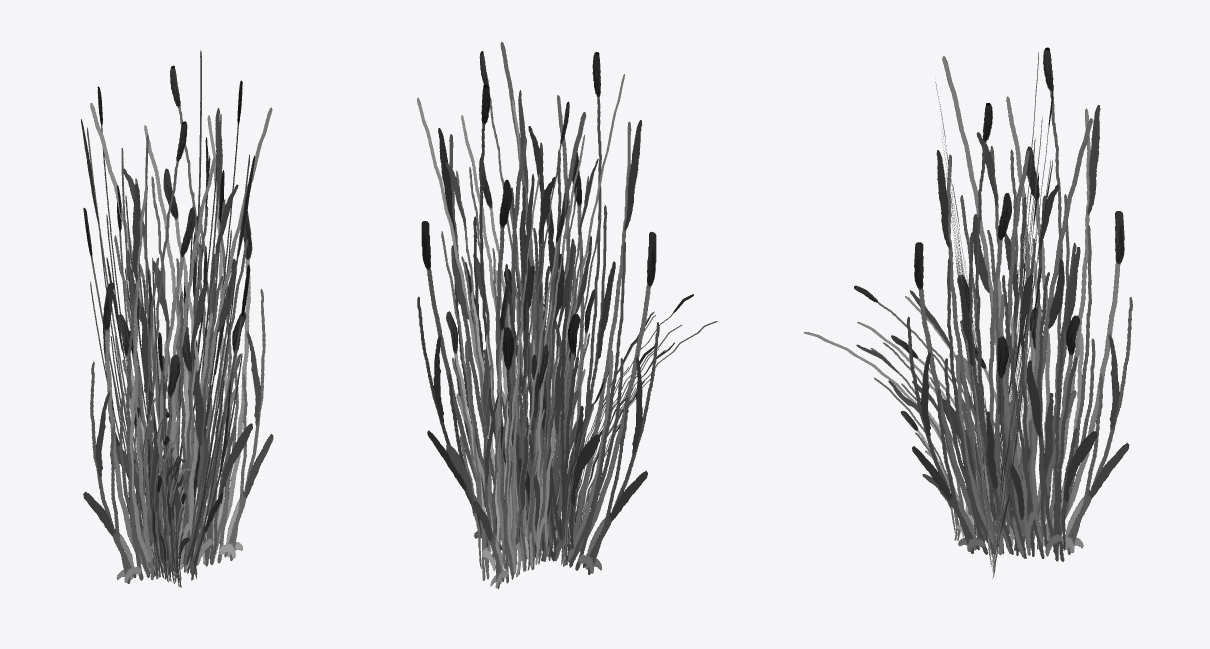
File: paprotka03.FBX
3 renders of one model, left to right at view 1: azimuth 30°, elevation 25°; view 2: azimuth 150°, elevation 25°; view 3: azimuth 270°, elevation 25°, orthographic. The views are drawn at different scales.
Parts seen in each view (by area): view 1: Plane006, Plane011, Plane010, Plane009, Plane008; view 2: Plane011, Plane006, Plane009, Plane010, Plane008; view 3: Plane010, Plane009, Plane008, Plane011, Plane006.
Part boxes in pixels (bbox=[...]): Plane006: bbox=[83, 107, 272, 583]; Plane011: bbox=[90, 65, 273, 579]; Plane010: bbox=[167, 50, 254, 580]; Plane009: bbox=[81, 86, 180, 577]; Plane008: bbox=[127, 391, 196, 587]; Plane011: bbox=[417, 85, 599, 565]; Plane006: bbox=[500, 42, 659, 574]; Plane009: bbox=[473, 74, 624, 588]; Plane010: bbox=[417, 51, 576, 580]; Plane008: bbox=[559, 294, 717, 566]; Plane010: bbox=[906, 103, 1097, 561]; Plane009: bbox=[942, 47, 1132, 554]; Plane008: bbox=[803, 285, 1009, 540]; Plane011: bbox=[991, 52, 1053, 578]; Plane006: bbox=[935, 82, 995, 566].
Bounding box in the file's own units: 109 × 158 × 126.
